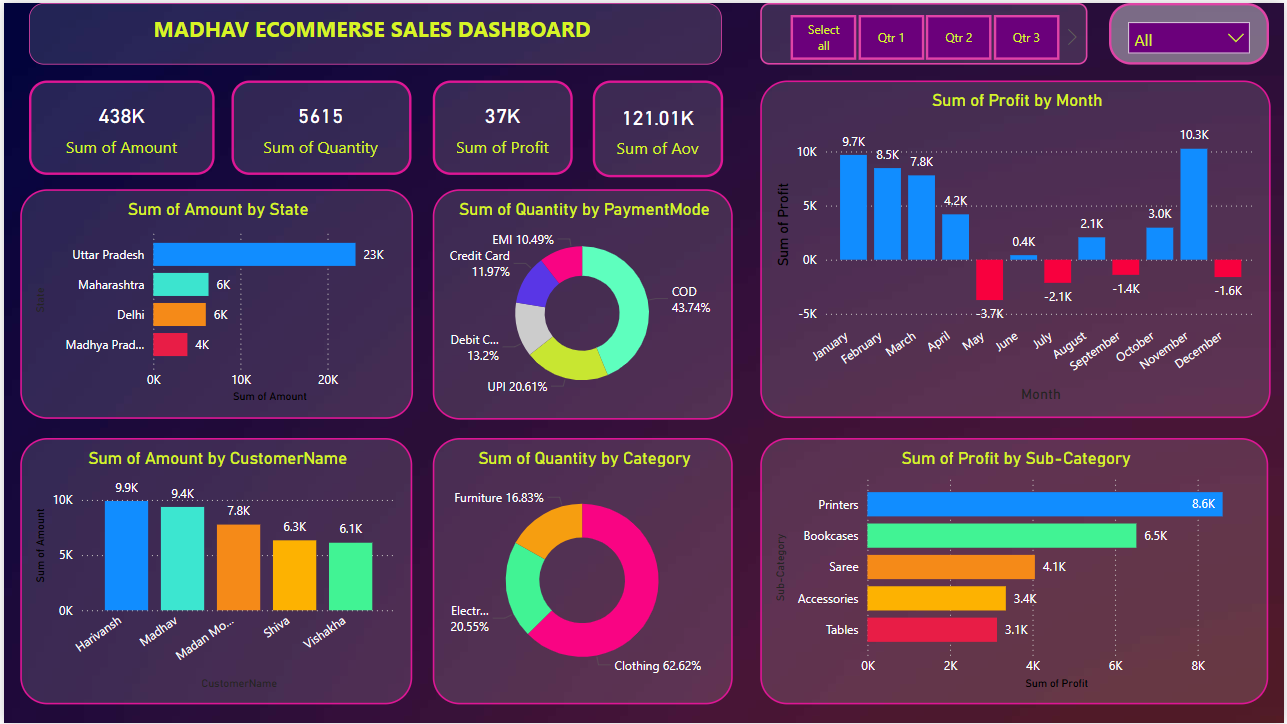

This screenshot's page, from the dashboard's own definition file:
{"tool":"powerbi","page":{"name":"Page 1","canvas":[1280,720],"ordinal":0},"visuals":[{"type":"textbox","box":[25,0,692.5,61.2],"z":0},{"type":"pieChart","fields":{"Y":["Sum(Details.Quantity)"],"Category":["Details.PaymentMode"]},"box":[428.3,186.7,300,230],"z":1000},{"type":"card","fields":{"Values":["Sum(Details.Amount)"]},"box":[25.3,77.2,185.8,94.1],"z":2000},{"type":"card","fields":{"Values":["Sum(Details.Profit)"]},"box":[428.3,77.2,139.9,94.1],"z":3000},{"type":"card","fields":{"Values":["Sum(Details.Quantity)"]},"box":[228,77.2,179.8,94.1],"z":4000},{"type":"card","fields":{"Values":["Sum(Details.Aov)"]},"box":[588.7,77.2,130.3,96.5],"z":5000},{"type":"pieChart","fields":{"Y":["Sum(Details.Quantity)"],"Category":["Details.Category"]},"box":[428.3,435,300,266.7],"z":6000},{"type":"columnChart","fields":{"Category":["Orders (1).Order Date.Variation.Date Hierarchy.Month"],"Y":["Sum(Details.Profit)"]},"box":[756,77.9,510.7,337.6],"z":7000},{"type":"barChart","fields":{"Category":["Details.Sub-Category"],"Y":["Sum(Details.Profit)"]},"box":[756.7,435,508.3,266.7],"z":8000},{"type":"columnChart","fields":{"Category":["Orders (1).CustomerName"],"Y":["Sum(Details.Amount)"]},"box":[16.7,435,391.7,266.7],"z":9000},{"type":"barChart","fields":{"Category":["Orders (1).State"],"Y":["Sum(Details.Amount)"]},"box":[15.9,186.1,392.4,229.4],"z":10000},{"type":"slicer","fields":{"Values":["Orders (1).Order Date.Variation.Date Hierarchy.Quarter"]},"box":[756.2,0,327.5,61.2],"z":11000},{"type":"slicer","fields":{"Values":["Orders (1).State"]},"box":[1105,0,160,61.2],"z":12000}]}

Visuals, with their boxes in screenshot pixels (x1, y1, x2, y2), scaled from the page's 1280x720 canvas onto the 1287x724 screenshot:
textbox: l=25, t=0, r=721, b=62
pieChart - Sum(Details.Quantity) x Details.PaymentMode: l=431, t=188, r=732, b=419
card - Sum(Details.Amount): l=25, t=78, r=212, b=172
card - Sum(Details.Profit): l=431, t=78, r=571, b=172
card - Sum(Details.Quantity): l=229, t=78, r=410, b=172
card - Sum(Details.Aov): l=592, t=78, r=723, b=175
pieChart - Sum(Details.Quantity) x Details.Category: l=431, t=437, r=732, b=706
columnChart - Orders (1).Order Date.Variation.Date Hierarchy.Month x Sum(Details.Profit): l=760, t=78, r=1274, b=418
barChart - Details.Sub-Category x Sum(Details.Profit): l=761, t=437, r=1272, b=706
columnChart - Orders (1).CustomerName x Sum(Details.Amount): l=17, t=437, r=411, b=706
barChart - Orders (1).State x Sum(Details.Amount): l=16, t=187, r=411, b=418
slicer - Orders (1).Order Date.Variation.Date Hierarchy.Quarter: l=760, t=0, r=1090, b=62
slicer - Orders (1).State: l=1111, t=0, r=1272, b=62
